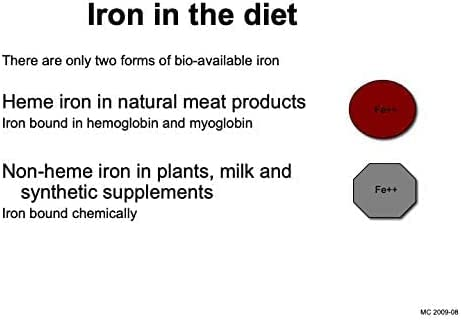Heme: (3, 94, 53, 109)
Iron: (89, 3, 143, 25), (3, 117, 25, 128), (3, 208, 25, 218)
Non-heme: (3, 163, 92, 178)
There: (2, 55, 38, 66)
and: (260, 163, 291, 178), (163, 117, 185, 128)
are: (42, 57, 62, 66)
bio-available: (175, 55, 252, 66)
bound: (30, 117, 67, 128), (30, 208, 67, 218)
chemically: (72, 208, 137, 221)
diet: (244, 3, 297, 25)
forms: (121, 55, 155, 66)
hemoglobin: (87, 117, 158, 131)
in: (155, 3, 178, 25), (98, 94, 111, 109), (137, 163, 150, 178), (73, 117, 82, 128)
iron: (60, 94, 91, 109), (99, 163, 130, 178), (257, 55, 279, 66)
meat: (184, 95, 226, 109)
milk: (221, 163, 254, 178)
myoglobin: (190, 117, 252, 131)
natural: (119, 94, 176, 109)
of: (159, 55, 171, 66)
only: (66, 55, 91, 68)
plants,: (158, 163, 213, 182)
products: (232, 94, 306, 112)
supplements: (103, 184, 213, 203)
synthetic: (21, 184, 97, 203)
the: (188, 3, 234, 25)
two: (95, 56, 116, 66)
